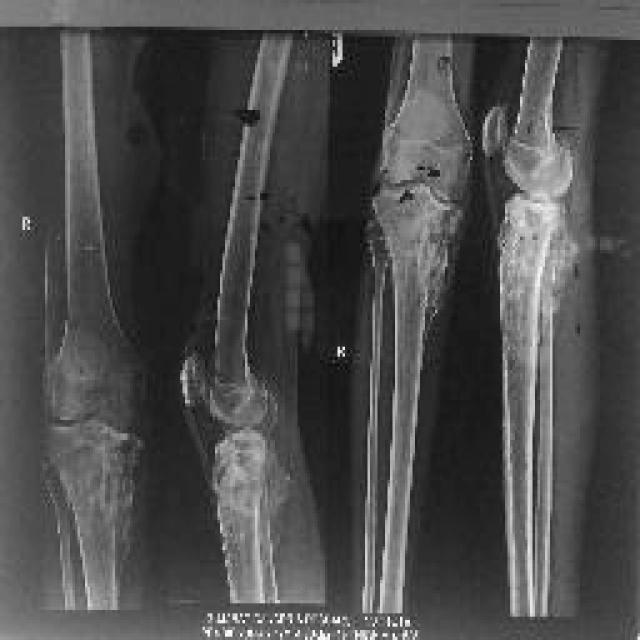bone-cancer: (214, 448, 280, 544), (100, 431, 139, 581), (500, 209, 549, 328), (418, 199, 461, 333)
